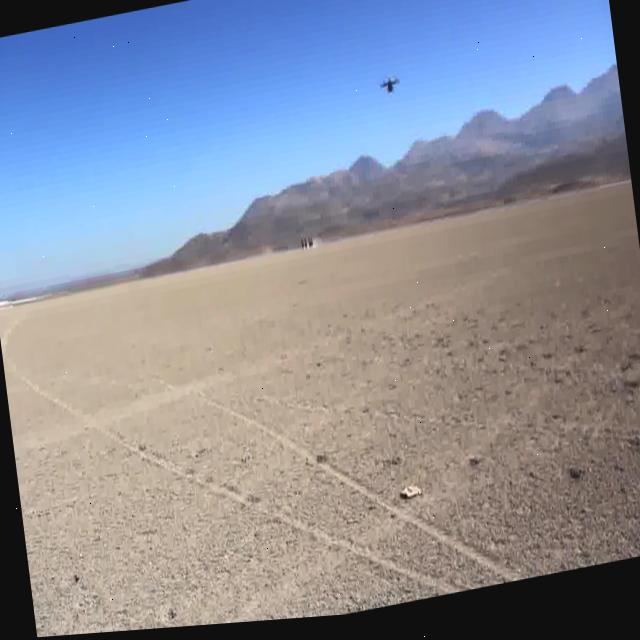drone: (376, 74, 402, 105)
